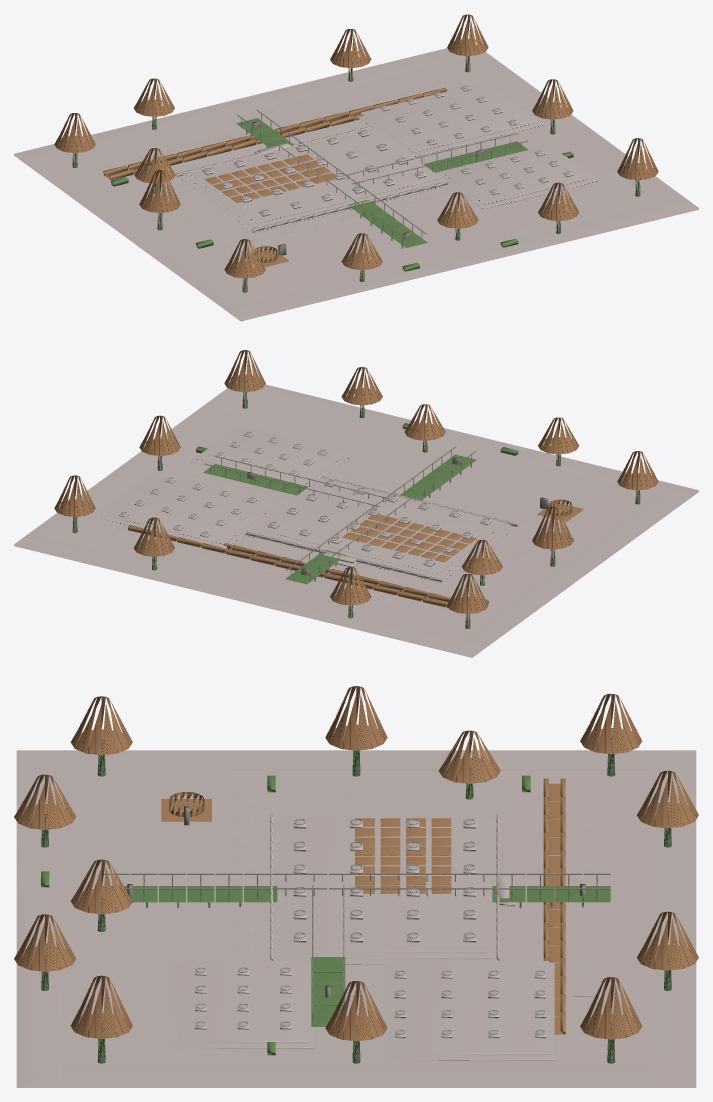
The picture shows the model from 3 angles, top to bottom: view 1: azimuth 30°, elevation 25°; view 2: azimuth 150°, elevation 25°; view 3: azimuth 270°, elevation 25°; orthographic projection. The views are drawn at different scales.
Visible parts, largest first — view 1: uijeongbu_plaza_ground, uijeongbu_excavated_ruins_masonry, uijeongbu_landscape_trees_and_kiosks, uijeongbu_elevated_viewing_deck, uijeongbu_well_and_stone_drain; view 2: uijeongbu_plaza_ground, uijeongbu_excavated_ruins_masonry, uijeongbu_landscape_trees_and_kiosks, uijeongbu_elevated_viewing_deck, uijeongbu_well_and_stone_drain; view 3: uijeongbu_plaza_ground, uijeongbu_excavated_ruins_masonry, uijeongbu_landscape_trees_and_kiosks, uijeongbu_elevated_viewing_deck, uijeongbu_well_and_stone_drain.
Boxes of the visible parts, left/top/right/bottom form: uijeongbu_plaza_ground: left=14, top=48, right=698, bottom=321; uijeongbu_excavated_ruins_masonry: left=107, top=82, right=597, bottom=252; uijeongbu_landscape_trees_and_kiosks: left=54, top=14, right=658, bottom=292; uijeongbu_elevated_viewing_deck: left=236, top=110, right=528, bottom=248; uijeongbu_well_and_stone_drain: left=103, top=87, right=446, bottom=267; uijeongbu_plaza_ground: left=14, top=381, right=698, bottom=657; uijeongbu_excavated_ruins_masonry: left=94, top=426, right=565, bottom=616; uijeongbu_landscape_trees_and_kiosks: left=54, top=350, right=658, bottom=628; uijeongbu_elevated_viewing_deck: left=203, top=446, right=476, bottom=584; uijeongbu_well_and_stone_drain: left=128, top=499, right=583, bottom=608; uijeongbu_plaza_ground: left=16, top=750, right=696, bottom=1087; uijeongbu_excavated_ruins_masonry: left=172, top=793, right=592, bottom=1061; uijeongbu_landscape_trees_and_kiosks: left=14, top=686, right=698, bottom=1063; uijeongbu_elevated_viewing_deck: left=102, top=873, right=610, bottom=1026; uijeongbu_well_and_stone_drain: left=161, top=778, right=565, bottom=1034.
Size of the model in its own units: 56 by 6.8 by 48.4.
5 materials, 5 textured.
